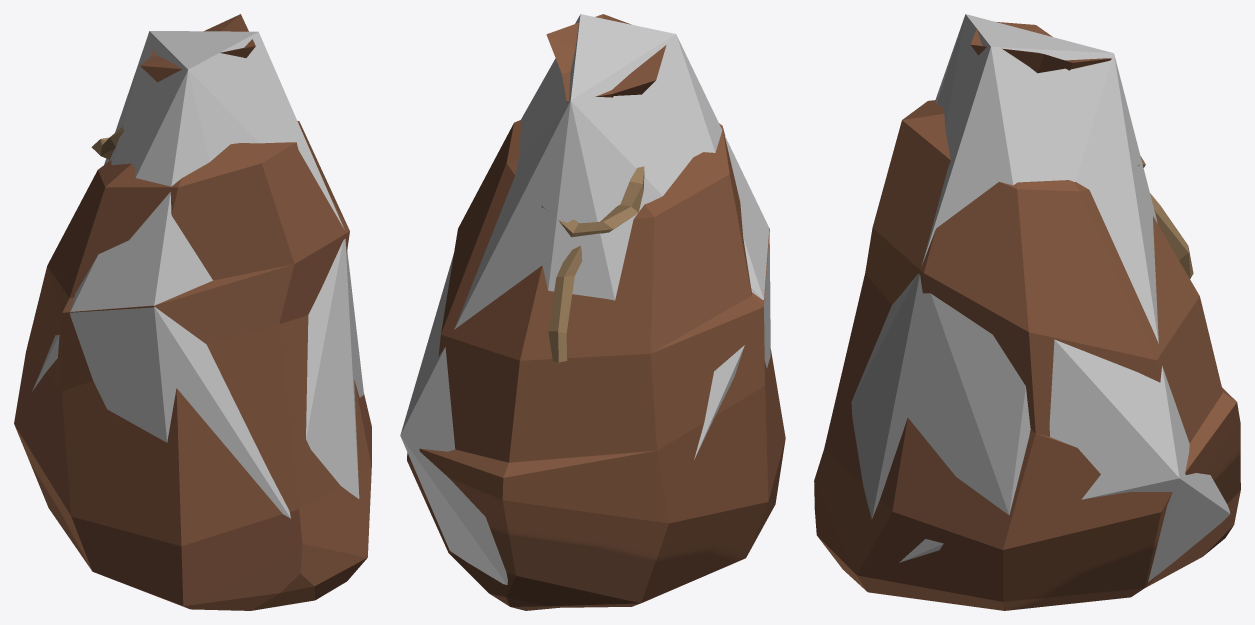
The model's file is SM_Prop_Bundle_03.fbx.
3 views of the same model, side by side, from view 1: azimuth 30°, elevation 25°; view 2: azimuth 150°, elevation 25°; view 3: azimuth 270°, elevation 25° (orthographic). The views are drawn at different scales.
Visible parts, largest first — view 1: SM_Prop_Bundle_03, SM_Prop_Bundle_03_ConvexHulls; view 2: SM_Prop_Bundle_03, SM_Prop_Bundle_03_ConvexHulls; view 3: SM_Prop_Bundle_03, SM_Prop_Bundle_03_ConvexHulls.
Boxes of the visible parts, x1,y1,x2,y2 form: SM_Prop_Bundle_03: (14,14,371,610); SM_Prop_Bundle_03_ConvexHulls: (32,31,363,518); SM_Prop_Bundle_03: (407,14,785,610); SM_Prop_Bundle_03_ConvexHulls: (400,14,770,584); SM_Prop_Bundle_03: (814,21,1240,610); SM_Prop_Bundle_03_ConvexHulls: (851,14,1230,582).
Bounding box in the file's own units: 93.71 × 108 × 149.
Materials: 2 (1 with a texture image).
